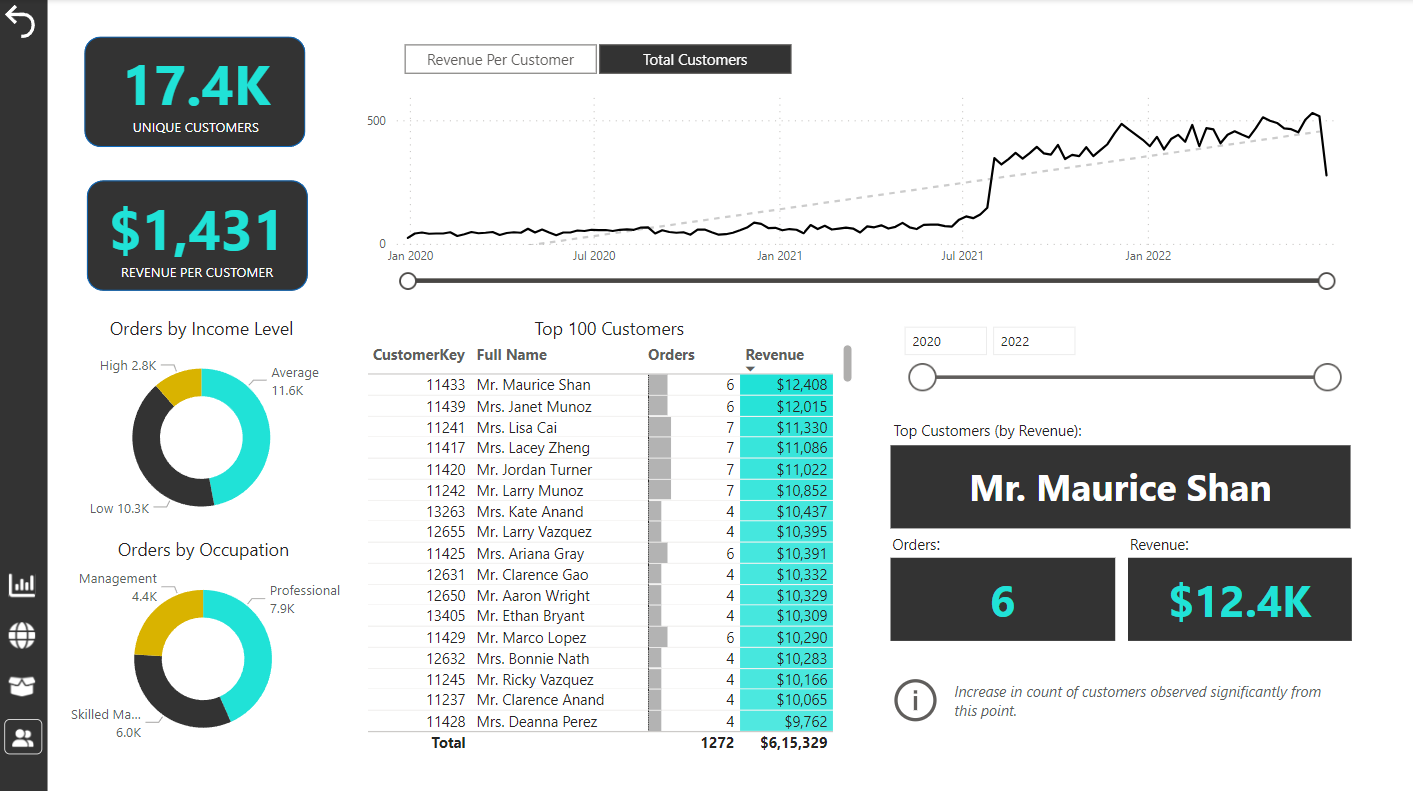

The dashboard page shown, as its layout file describes it:
{"tool":"powerbi","page":{"name":"Customer Details","canvas":[1280,720],"ordinal":3},"visuals":[{"type":"shape","box":[0,0,45,720],"z":0},{"type":"actionButton","box":[6.2,514.8,34.3,32],"z":0,"group":"g1"},{"type":"actionButton","box":[6.2,652.1,34.3,32],"z":500,"group":"g1"},{"type":"shape","box":[78.4,34.5,200,100],"z":1000},{"type":"actionButton","box":[6.2,560.6,34.3,32],"z":1000,"group":"g1"},{"type":"card","fields":{"Values":["Measure Table.Total Customers"]},"box":[78.9,11.8,200,143.4],"z":2000},{"type":"actionButton","box":[6.2,606.3,34.3,32],"z":2000,"group":"g1"},{"type":"shape","box":[80.4,163.9,200,100],"z":3000},{"type":"card","fields":{"Values":["Measure Table.Average Revenue Per Customer"]},"box":[80.3,142.1,200,143.4],"z":4000},{"type":"lineChart","title":"Total Customers","fields":{"Category":["Calendar Lookup.Date Hierarchy.Year","Calendar Lookup.Date Hierarchy.Start of Quarter","Calendar Lookup.Date Hierarchy.Start of Month","Calendar Lookup.Date Hierarchy.Start of Week","Calendar Lookup.Date"],"Y":["Measure Table.Total Customers"]},"box":[327.8,73.5,899.7,192.2],"z":5000},{"type":"donutChart","title":"Orders by Income Level","fields":{"Category":["Customer Lookup.Income Level"],"Y":["Measure Table.Total Orders"]},"box":[53.6,285.5,261.8,200],"z":6000},{"type":"donutChart","title":"Orders by Occupation","fields":{"Y":["Measure Table.Total Orders"],"Category":["Customer Lookup.Occupation"]},"box":[54.9,485.5,260.5,200],"z":7000},{"type":"tableEx","title":"Top 100 Customers","fields":{"Values":["Customer Lookup.CustomerKey","Customer Lookup.Full Name","Measure Table.Total Orders","Measure Table.Total Revenue"]},"box":[327.6,285.5,450,400],"z":8000},{"type":"card","fields":{"Values":["Customer Lookup.Full Name(CD)"]},"box":[806.6,403.6,415.8,75],"z":9000},{"type":"card","fields":{"Values":["Measure Table.Total Orders(CD)"]},"box":[806.6,505.5,203.4,75],"z":10000},{"type":"card","fields":{"Values":["Measure Table.Total Revenue(CD)"]},"box":[1021.3,505.5,202.6,75],"z":11000},{"type":"textbox","box":[803.2,475.5,203.9,36.8],"z":12000},{"type":"textbox","box":[1018.2,476.3,203.9,36.8],"z":13000},{"type":"textbox","box":[805.3,376.8,203.9,36.8],"z":14000},{"type":"slicer","fields":{"Values":["Calendar Lookup.Year"]},"box":[806.6,285.5,415.8,86.8],"z":15000},{"type":"actionButton","box":[0,0,45,40.2],"z":16000},{"type":"actionButton","box":[804.7,609.5,416.6,49.7],"z":17000},{"type":"group","id":"g1","title":"Nav Buttons","box":[6.2,514.8,34.3,169.2],"z":18000},{"type":"slicer","fields":{"Values":["Customer Selection Metric.Customer Selection Metric"]},"box":[341.4,33.9,400.1,39.6],"z":18001}]}

Visuals, with their boxes on the page's 1280x720 design canvas (x1, y1, x2, y2). These are canvas units, not pixel positions in the 1413x791 screenshot, which may show the page scaled, cropped or inside an application window:
shape: [left=0, top=0, right=45, bottom=720]
actionButton: [left=6, top=515, right=40, bottom=547]
actionButton: [left=6, top=652, right=40, bottom=684]
shape: [left=78, top=34, right=278, bottom=134]
actionButton: [left=6, top=561, right=40, bottom=593]
card - Measure Table.Total Customers: [left=79, top=12, right=279, bottom=155]
actionButton: [left=6, top=606, right=40, bottom=638]
shape: [left=80, top=164, right=280, bottom=264]
card - Measure Table.Average Revenue Per Customer: [left=80, top=142, right=280, bottom=286]
"Total Customers" lineChart: [left=328, top=74, right=1228, bottom=266]
"Orders by Income Level" donutChart: [left=54, top=286, right=315, bottom=486]
"Orders by Occupation" donutChart: [left=55, top=486, right=315, bottom=686]
"Top 100 Customers" tableEx: [left=328, top=286, right=778, bottom=686]
card - Customer Lookup.Full Name(CD): [left=807, top=404, right=1222, bottom=479]
card - Measure Table.Total Orders(CD): [left=807, top=506, right=1010, bottom=580]
card - Measure Table.Total Revenue(CD): [left=1021, top=506, right=1224, bottom=580]
textbox: [left=803, top=476, right=1007, bottom=512]
textbox: [left=1018, top=476, right=1222, bottom=513]
textbox: [left=805, top=377, right=1009, bottom=414]
slicer - Calendar Lookup.Year: [left=807, top=286, right=1222, bottom=372]
actionButton: [left=0, top=0, right=45, bottom=40]
actionButton: [left=805, top=610, right=1221, bottom=659]
"Nav Buttons" group: [left=6, top=515, right=40, bottom=684]
slicer - Customer Selection Metric.Customer Selection Metric: [left=341, top=34, right=742, bottom=74]
